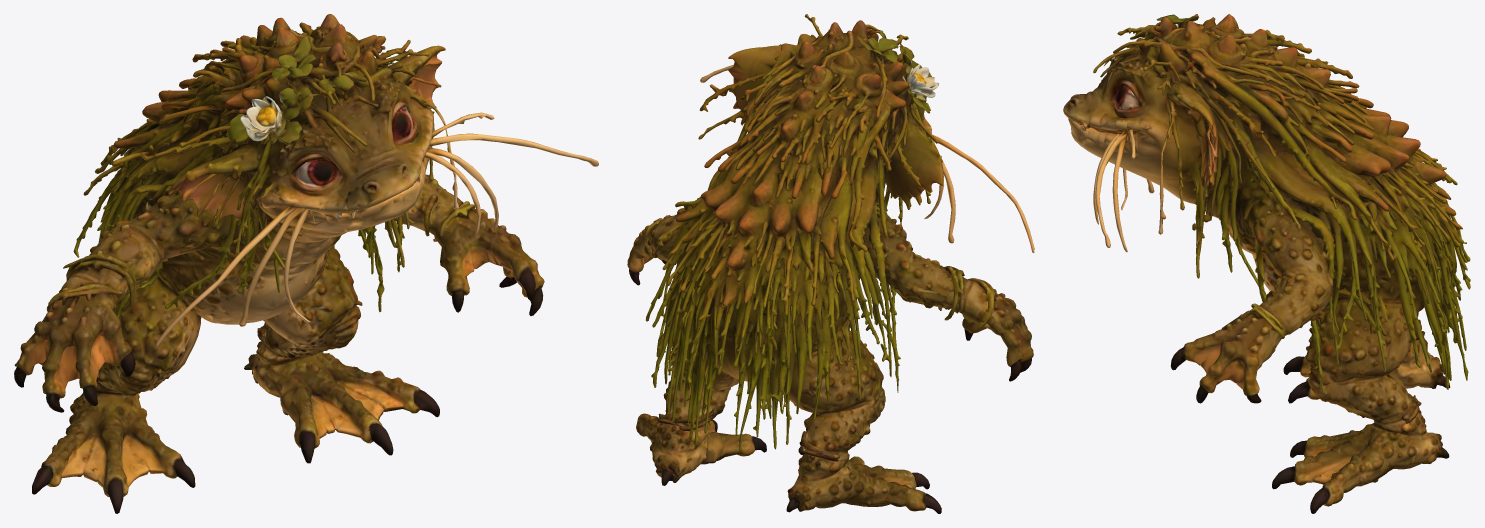
The model's file is figurine-swamp.glb.
3 renders of one model, left to right at view 1: azimuth 30°, elevation 25°; view 2: azimuth 150°, elevation 25°; view 3: azimuth 270°, elevation 25°, orthographic. The views are drawn at different scales.
Visible parts, largest first — view 1: tripo_node_d2e540b8-fb52-44d2-a12b-c0568941e5fd; view 2: tripo_node_d2e540b8-fb52-44d2-a12b-c0568941e5fd; view 3: tripo_node_d2e540b8-fb52-44d2-a12b-c0568941e5fd.
Part boxes in pixels (box(x1,y1,x2,y2)): tripo_node_d2e540b8-fb52-44d2-a12b-c0568941e5fd: box(14, 14, 598, 513); tripo_node_d2e540b8-fb52-44d2-a12b-c0568941e5fd: box(627, 14, 1034, 513); tripo_node_d2e540b8-fb52-44d2-a12b-c0568941e5fd: box(1063, 14, 1470, 513).
Size of the model in its own units: 0.9796 by 0.924 by 0.801.
Materials: 1 (1 with a texture image).
